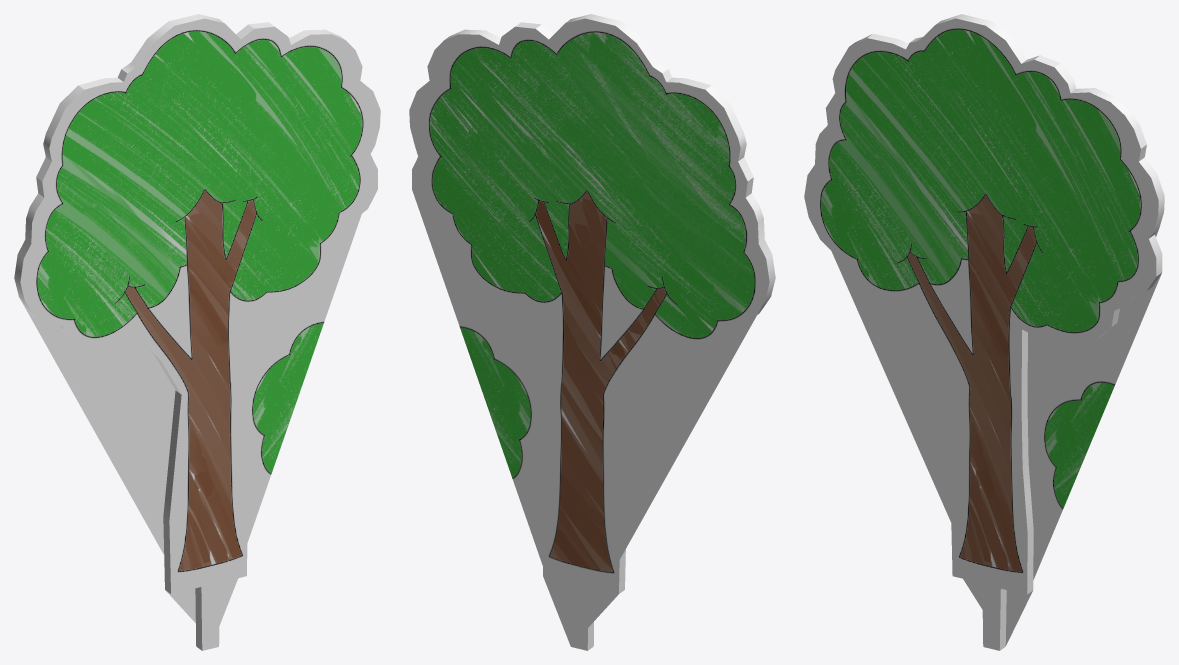
The model's file is tree.fbx.
3 views of the same model, side by side, from view 1: azimuth 30°, elevation 25°; view 2: azimuth 150°, elevation 25°; view 3: azimuth 330°, elevation 25° (orthographic).
Parts seen in each view (by area): view 1: tree; view 2: tree; view 3: tree.
Part boxes in pixels (x1,y1,x2,y2): tree: [14, 14, 380, 650]; tree: [409, 14, 775, 650]; tree: [804, 14, 1164, 650].
Size of the model in its own units: 27.99 by 46.89 by 0.8179.
